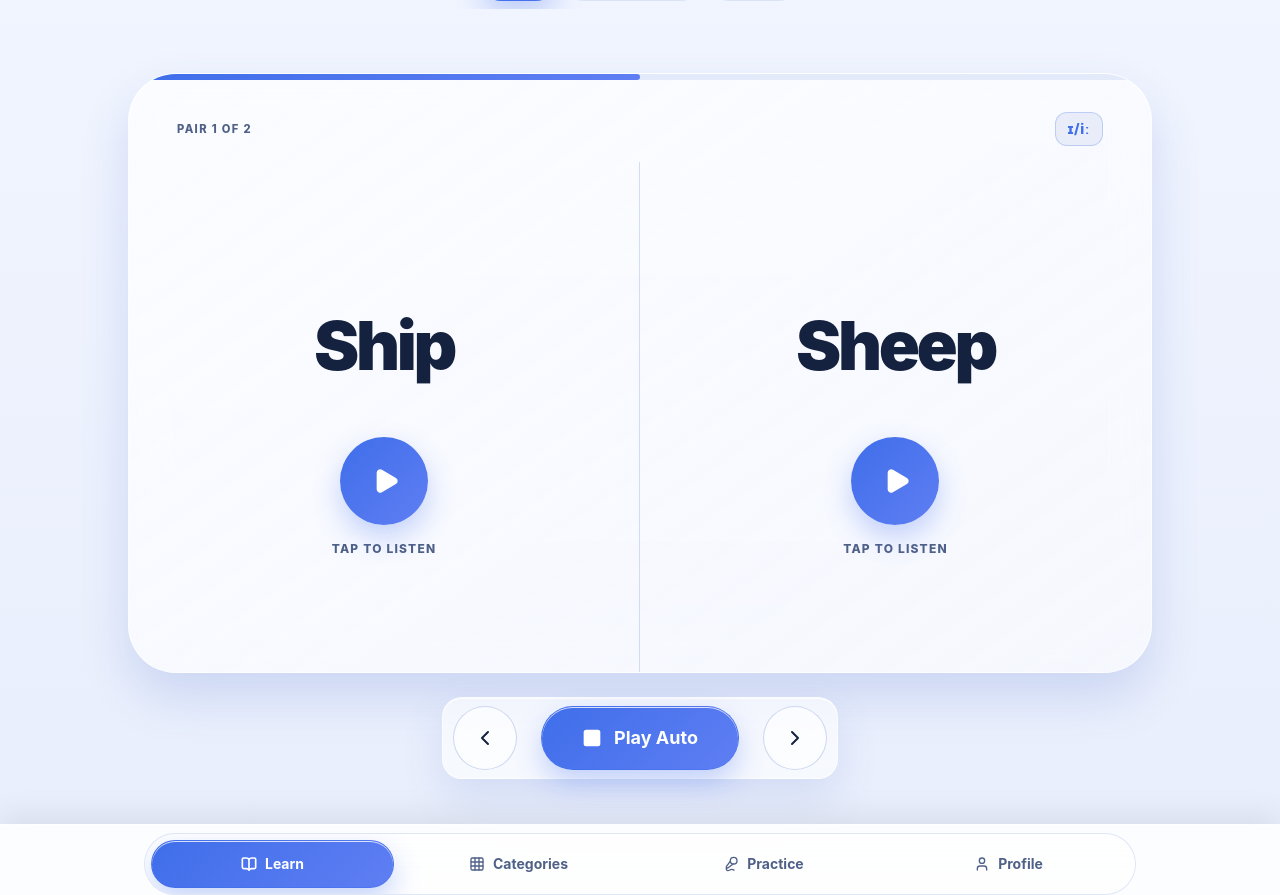
App › goes next, wraps around, and previous wraps back
(page scrolled)
Expected: the text "Pair 1 of 2" is shown, [177, 121, 252, 137]
Click the button named "next pair" at coordinates (795, 738), box [763, 706, 827, 770]
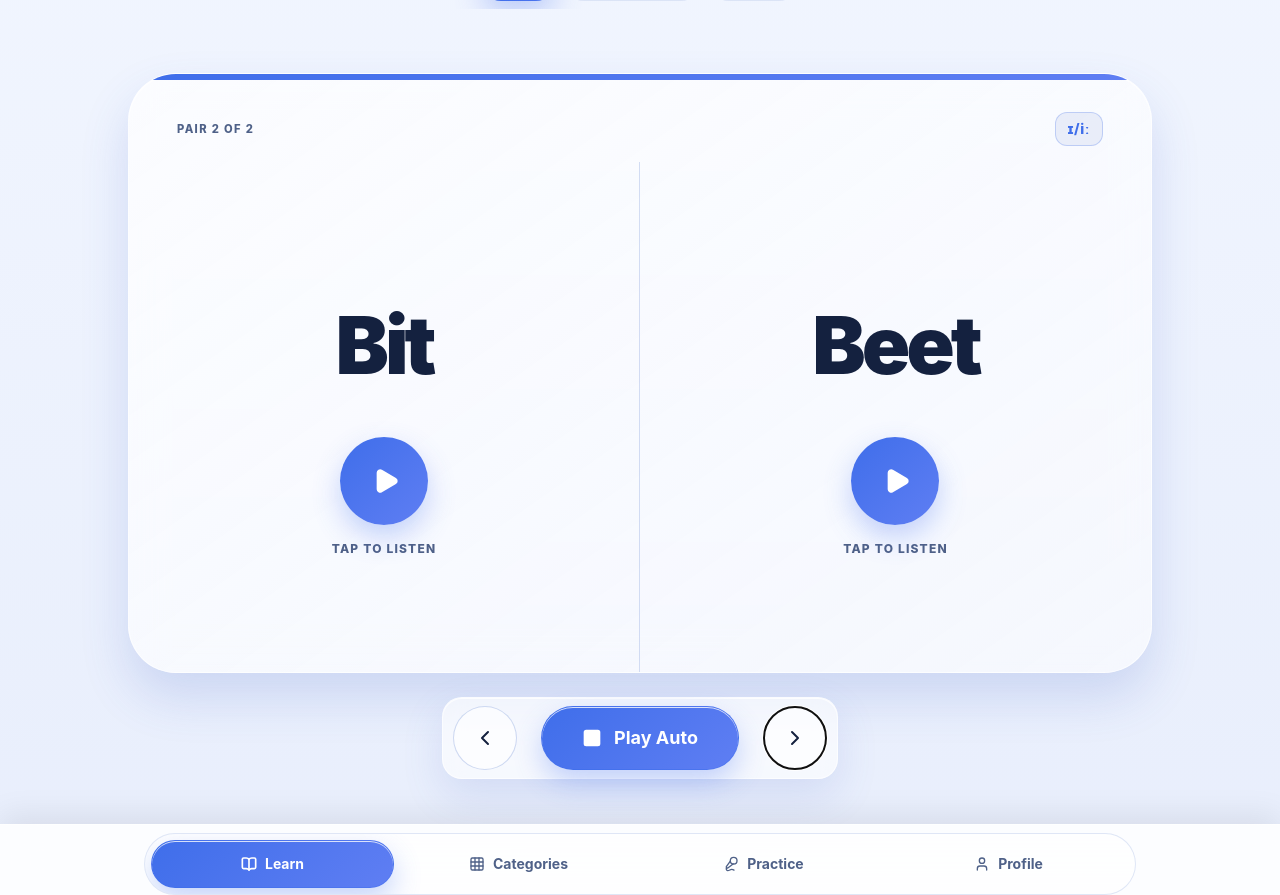
Now the text "Pair 2 of 2" is shown, box [177, 121, 254, 137]
Click the button named "next pair" at coordinates (795, 738), box [763, 706, 827, 770]
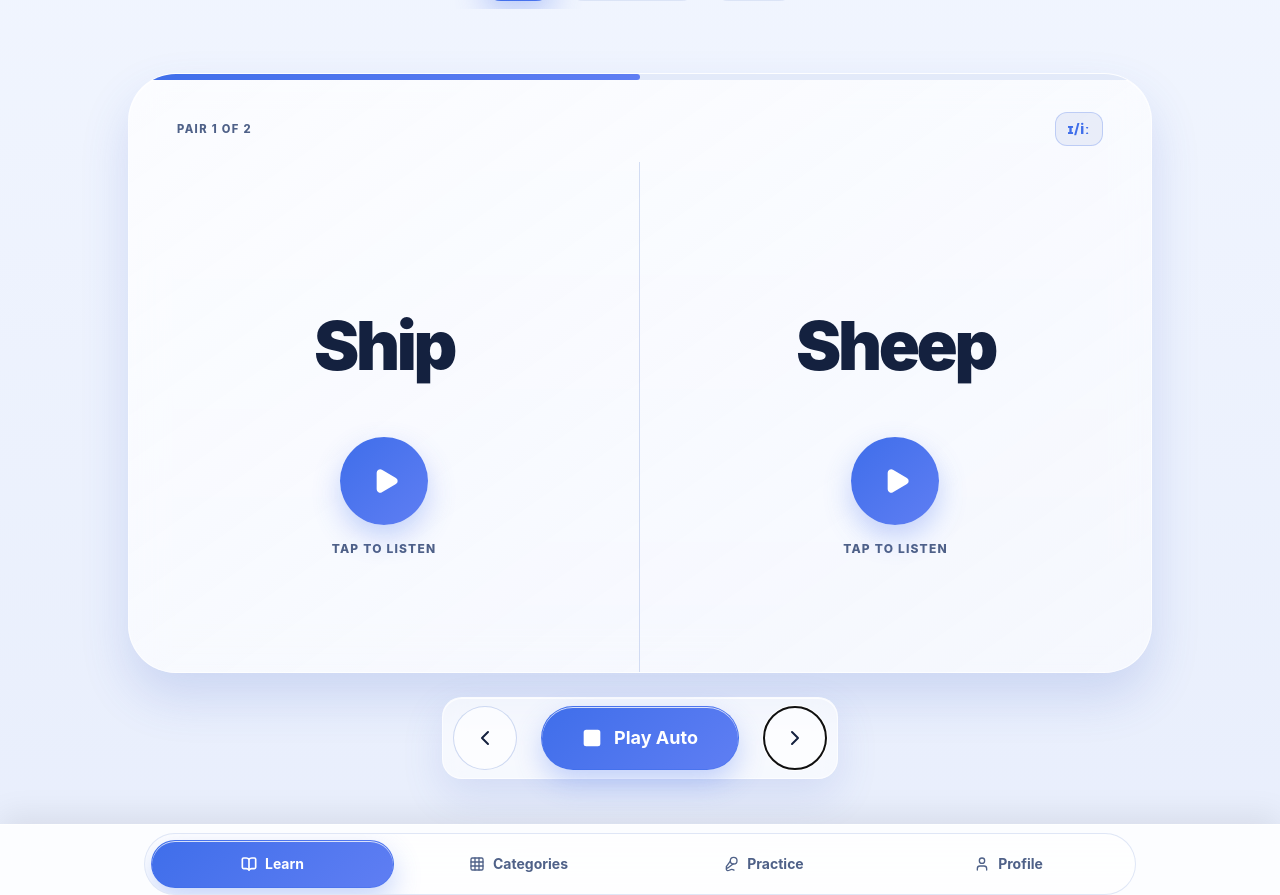
Now the text "Pair 1 of 2" is shown, box [177, 121, 252, 137]
Click the button named "previous pair" at coordinates (485, 738), box [453, 706, 517, 770]
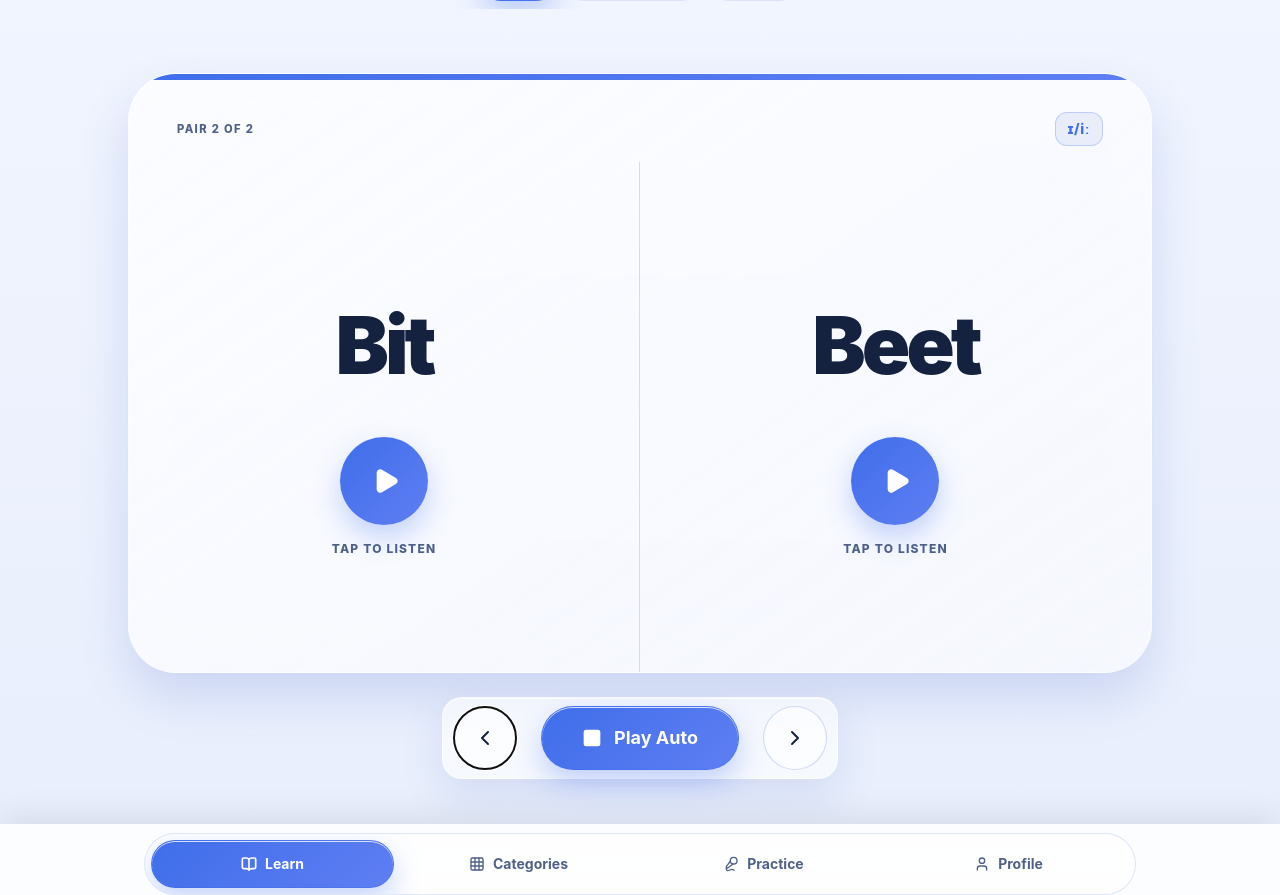
Now the text "Pair 2 of 2" is shown, box [177, 121, 254, 137]
